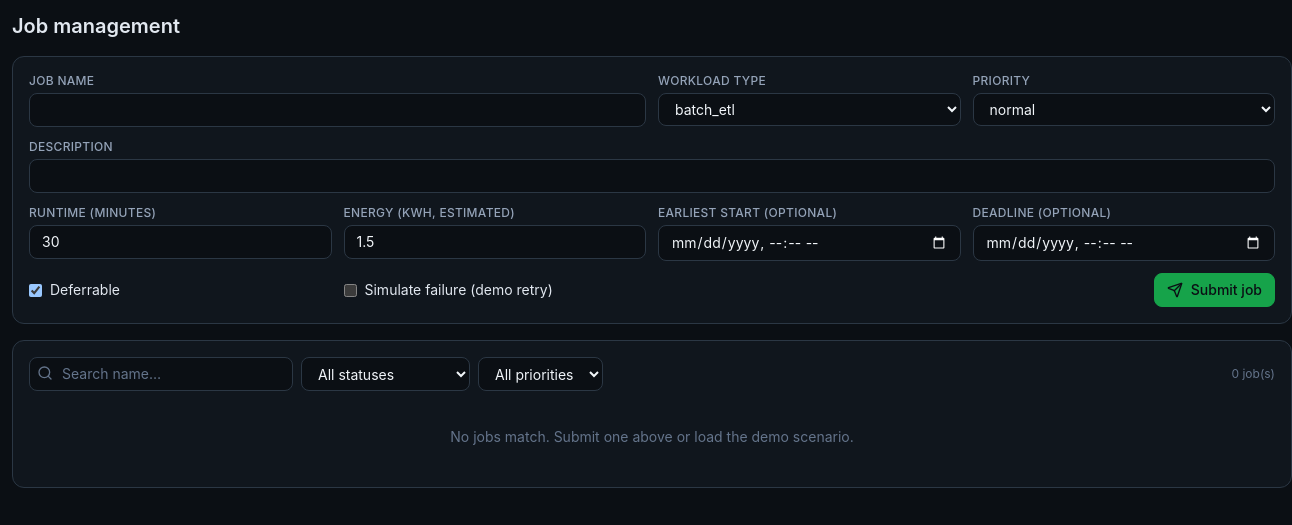
Test case: Jobs page › blocks submission and shows validation errors for an invalid form
The width and height of the screenshot is (1292, 525).
Expected: the text "No jobs match. Submit one above or load the demo scenario." is shown, [450, 428, 854, 445]
Click the button "Submit job".
click(1214, 290)  # box [1154, 273, 1275, 307]
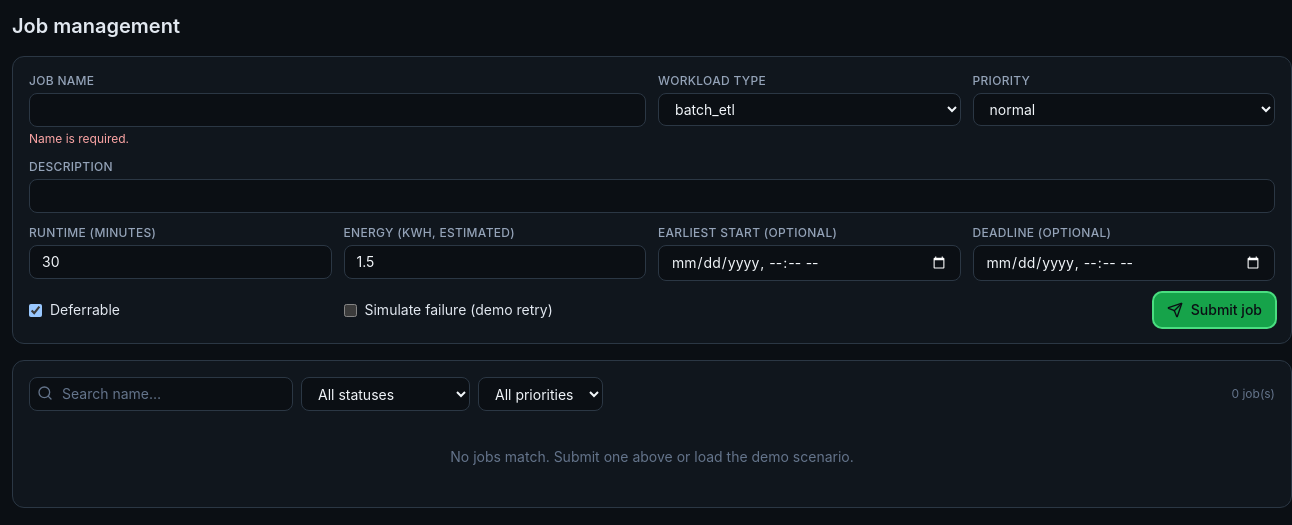
Now the text "Name is required." is shown, box [29, 131, 129, 146]
